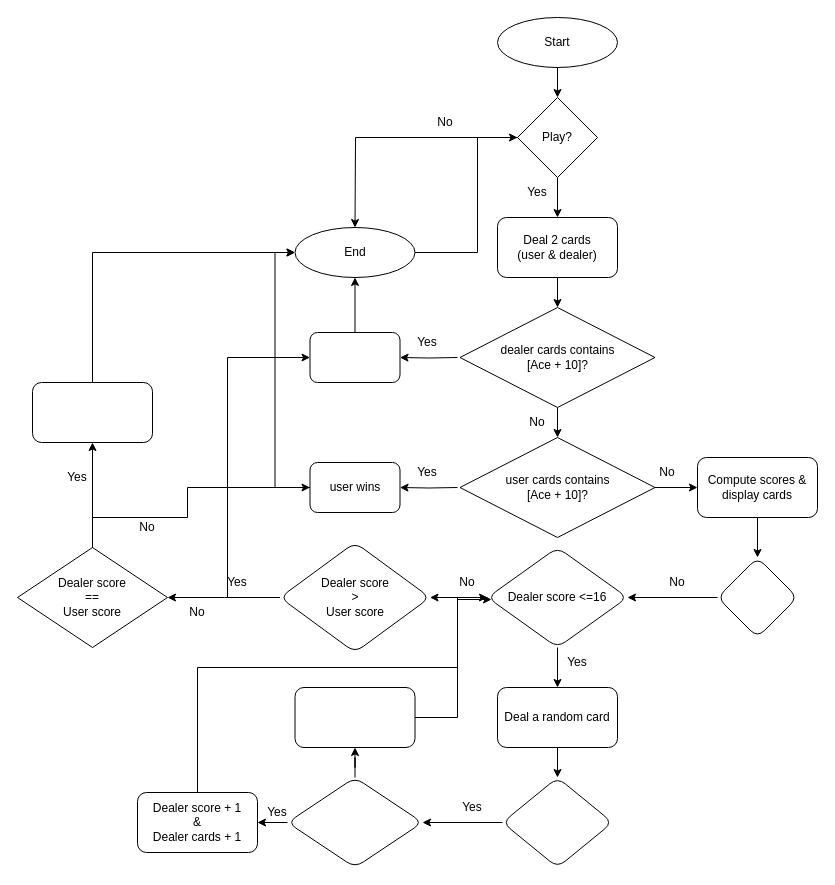
Some shapes in this 835 by 885 pixel diagram are drawn without their labels. Here are the shapes that lost their labels. From the top down, the box of each, then its label:
(309, 332, 400, 382): Dealer wins
(32, 382, 152, 442): It's a draw
(716, 556, 798, 638): Deal?
(294, 686, 415, 748): Dealer score + 11 & Dealer cards + card
(286, 776, 422, 868): Card + dealer score > 21?
(502, 776, 612, 868): Card is Ace?
